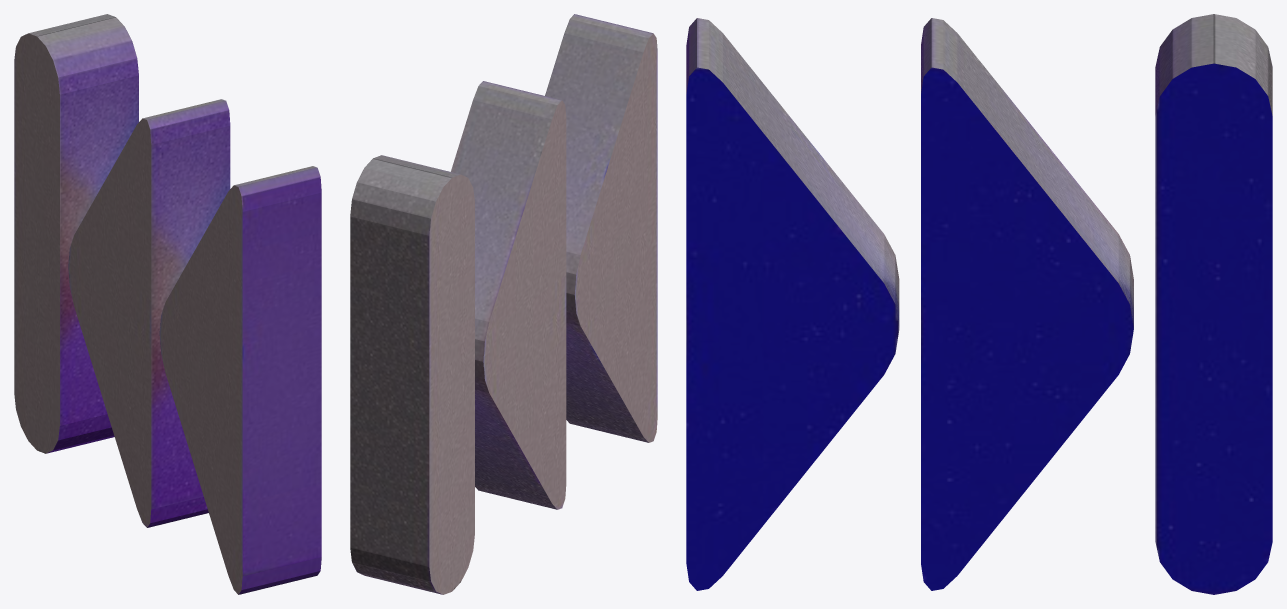
The model's file is touch_skip_back.glb.
3 views of the same model, side by side, from view 1: azimuth 30°, elevation 25°; view 2: azimuth 150°, elevation 25°; view 3: azimuth 270°, elevation 25° (orthographic). The views are drawn at different scales.
Parts seen in each view (by area): view 1: touch_skip_back; view 2: touch_skip_back; view 3: touch_skip_back.
Boxes of the visible parts, x1,y1,x2,y2 form: touch_skip_back: (14,14,321,594); touch_skip_back: (350,14,657,594); touch_skip_back: (686,14,1272,594).
Size of the model in its own units: 0.14 by 0.7 by 0.7.
1 material, 1 textured.
